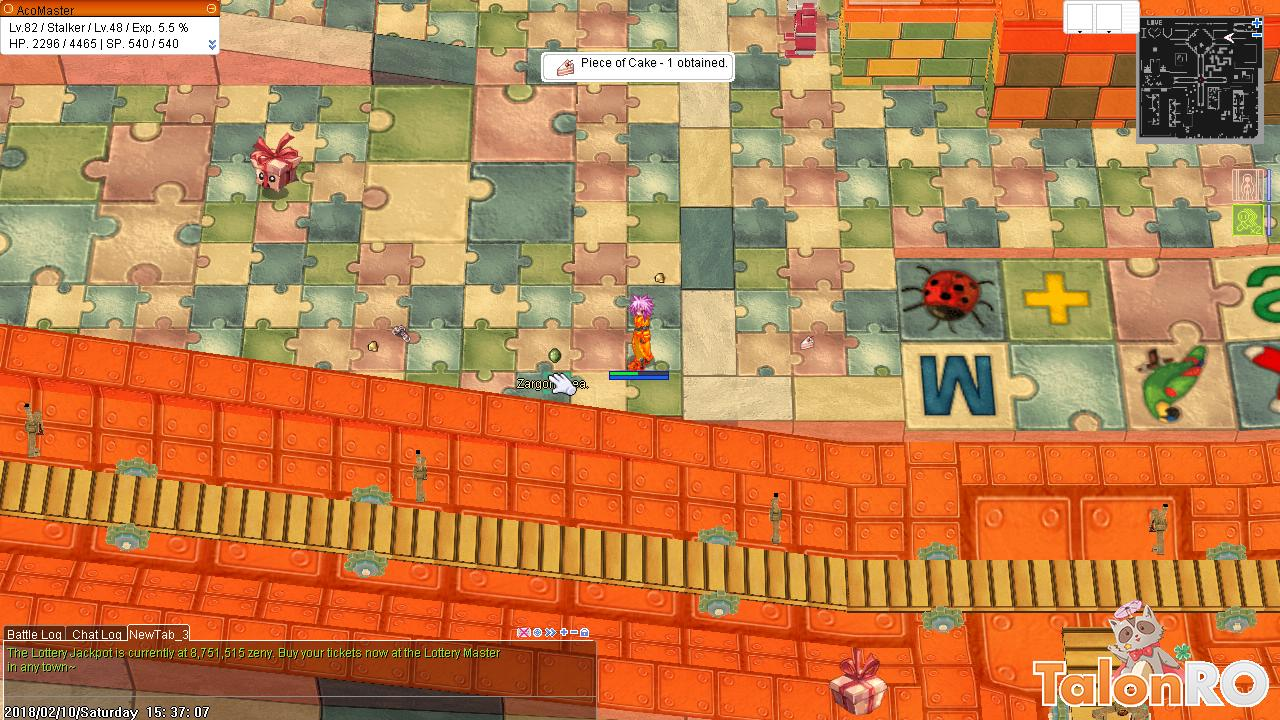loot: (390, 321, 408, 343)
mob: (794, 331, 817, 354), (362, 334, 384, 354), (546, 342, 562, 365), (651, 265, 669, 285)
myst_case: (825, 653, 893, 716), (248, 131, 305, 198)
